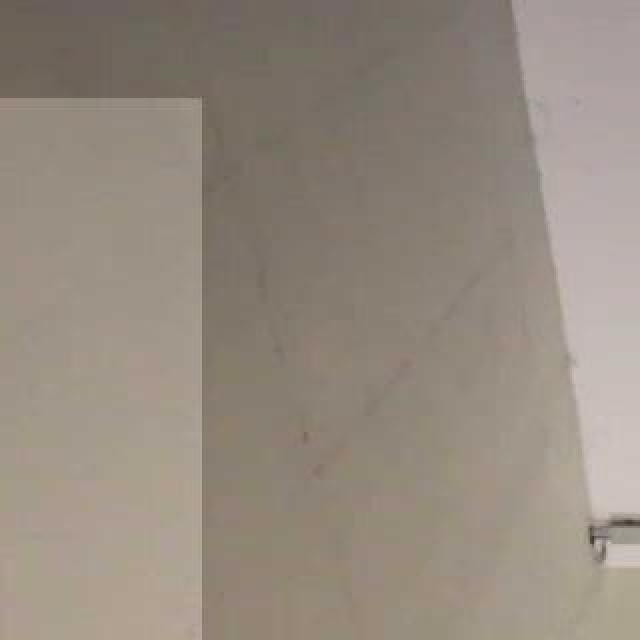fluorescent tube: (0, 100, 176, 640)
